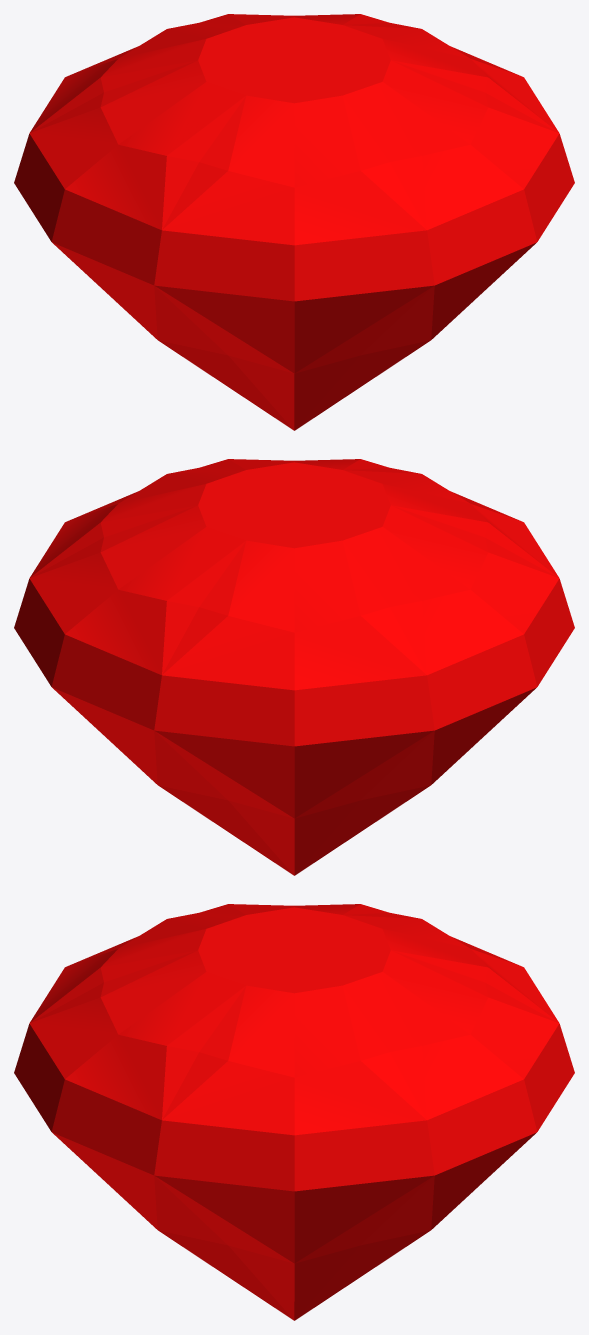
Rendered from jEWELANIMATION.fbx.
3 renders of one model, top to bottom at view 1: azimuth 30°, elevation 25°; view 2: azimuth 150°, elevation 25°; view 3: azimuth 270°, elevation 25°, orthographic.
Parts seen in each view (by area): view 1: jewel; view 2: jewel; view 3: jewel.
Boxes of the visible parts, <box> form: jewel: <box>14,14,574,430</box>; jewel: <box>14,459,574,875</box>; jewel: <box>14,904,574,1320</box>.
Bounding box in the file's own units: 7.26 × 5.29 × 7.26.
